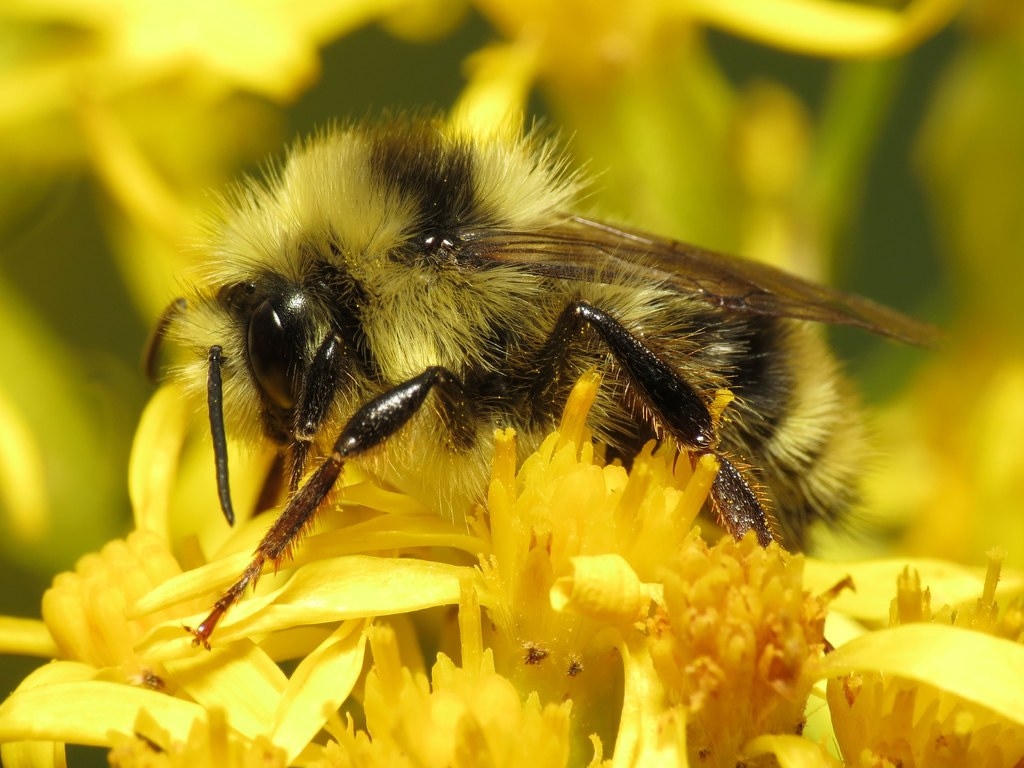bee: (140, 104, 935, 646)
